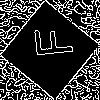F: (25, 25, 73, 60)
